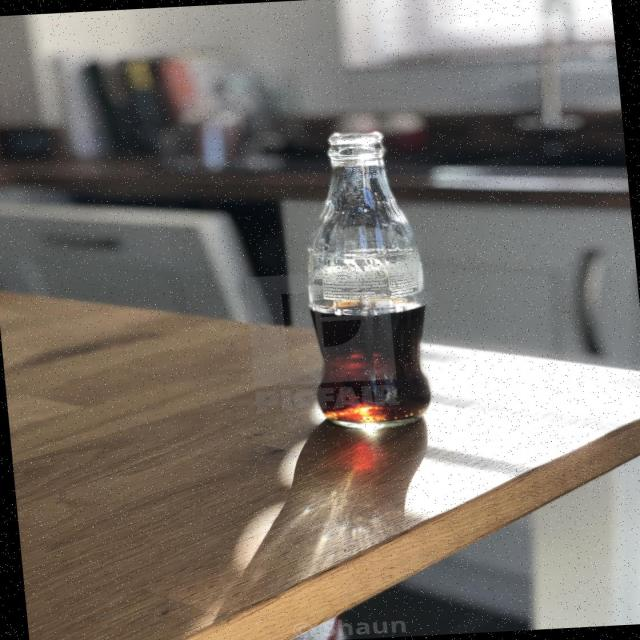coca-cola: (283, 119, 447, 434)
